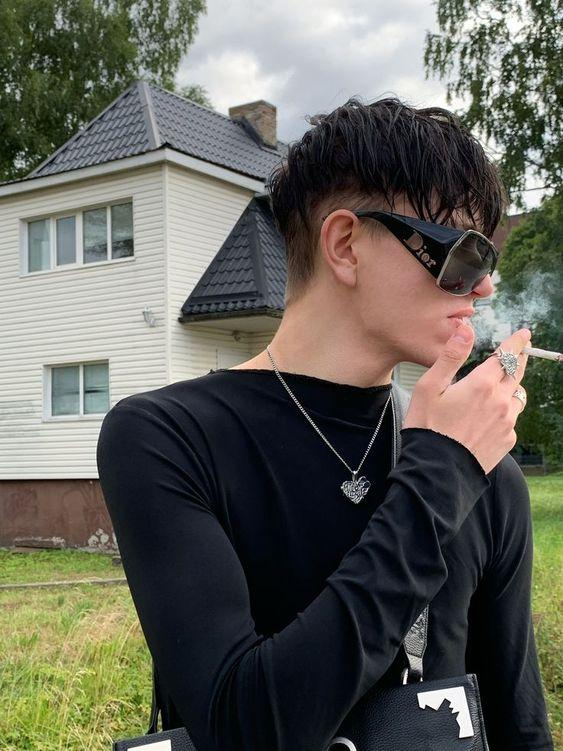cigarette: (492, 337, 563, 363)
